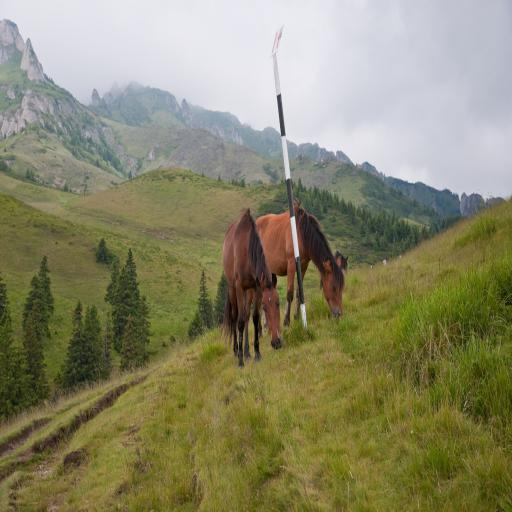Horse: (254, 199, 346, 324), (220, 206, 283, 368), (331, 248, 348, 270)
